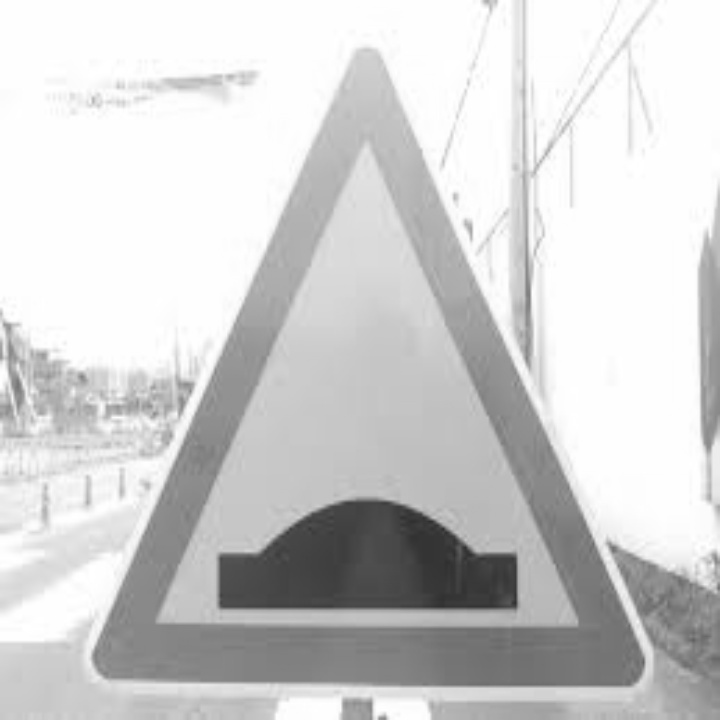bump: (206, 482, 544, 619)
